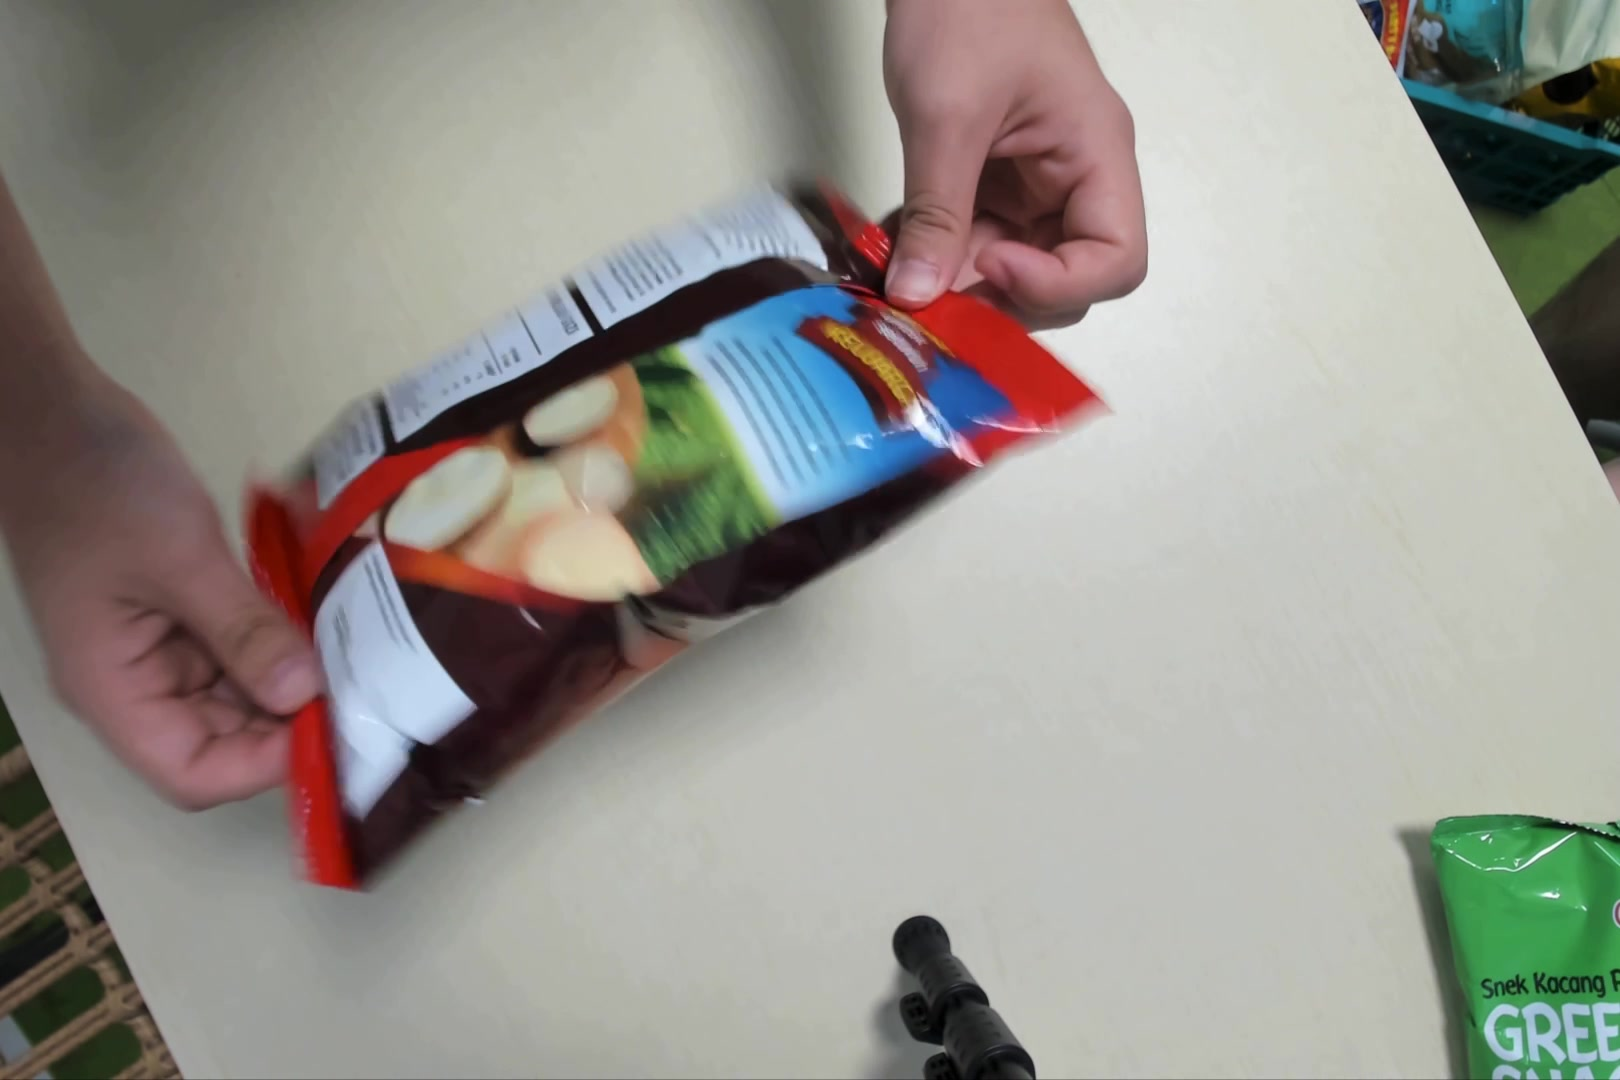PotatoChipsKeropok_0-99g_Halal_NonHealthy: (230, 168, 1097, 890)
